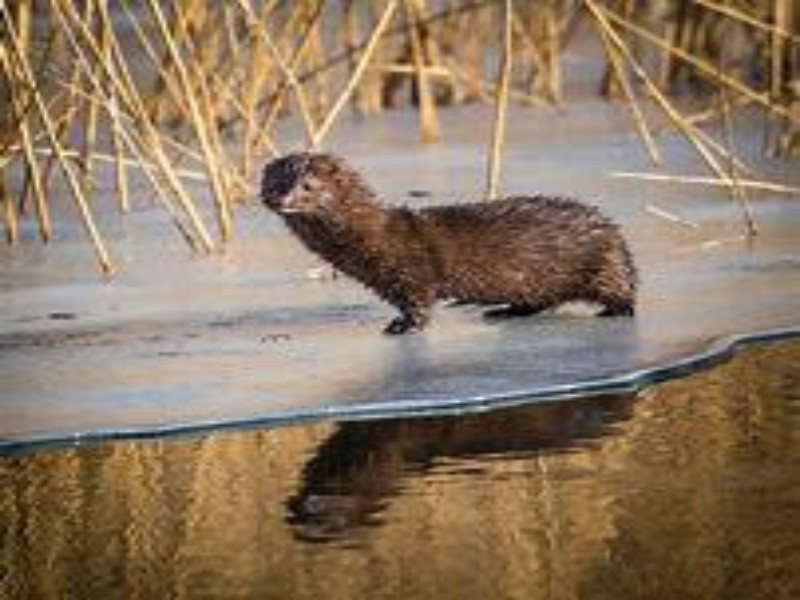minkish: (260, 151, 643, 335)
